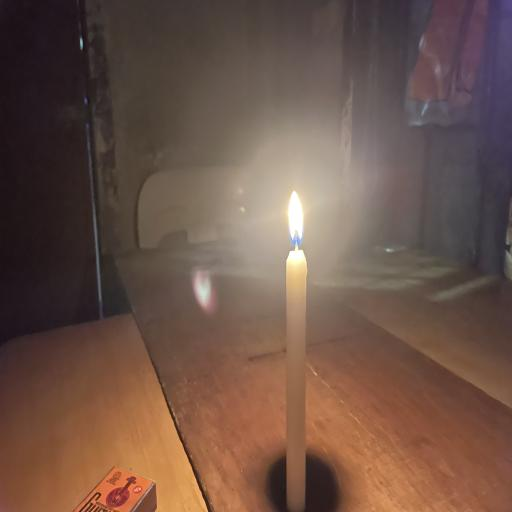fire: (272, 167, 315, 262)
